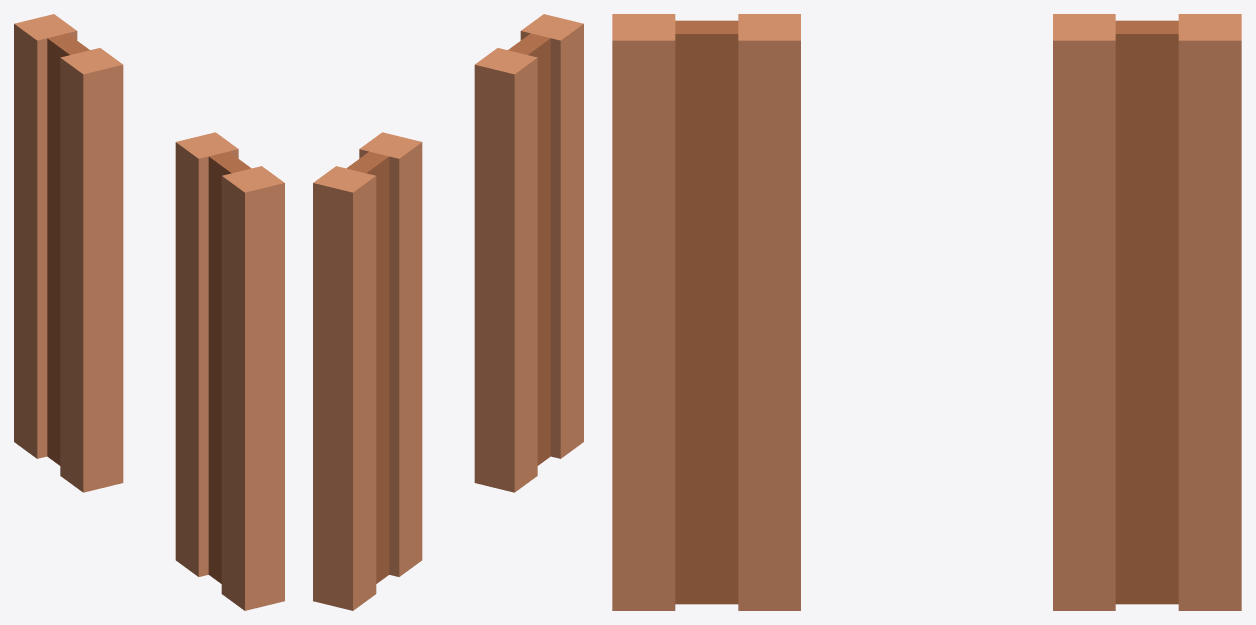
The model's file is wallWoodDoorwayBase.glb.
3 renders of one model, left to right at view 1: azimuth 30°, elevation 25°; view 2: azimuth 150°, elevation 25°; view 3: azimuth 270°, elevation 25°, orthographic. The views are drawn at different scales.
Parts seen in each view (by area): view 1: wallWoodDoorwayBase; view 2: wallWoodDoorwayBase; view 3: wallWoodDoorwayBase.
Boxes of the visible parts, x1,y1,x2,y2 form: wallWoodDoorwayBase: [14, 14, 284, 610]; wallWoodDoorwayBase: [313, 14, 583, 610]; wallWoodDoorwayBase: [612, 14, 1241, 610].
Bounding box in the file's own units: 0.3 × 3 × 3.
